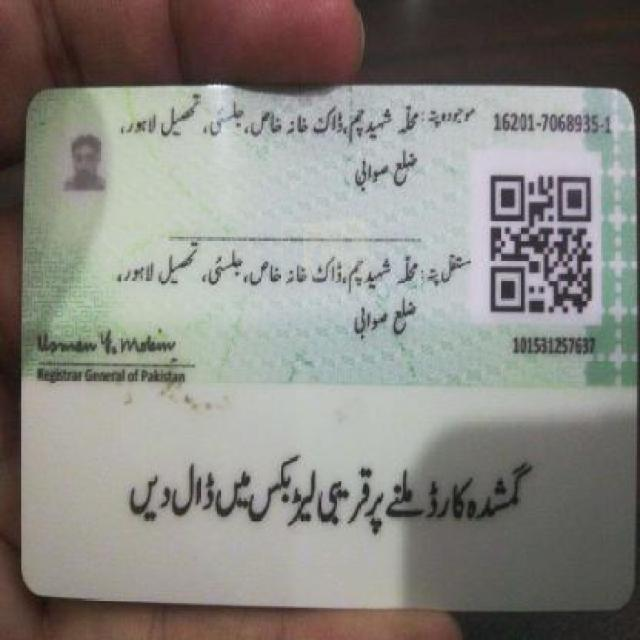Back: (18, 79, 637, 618)
